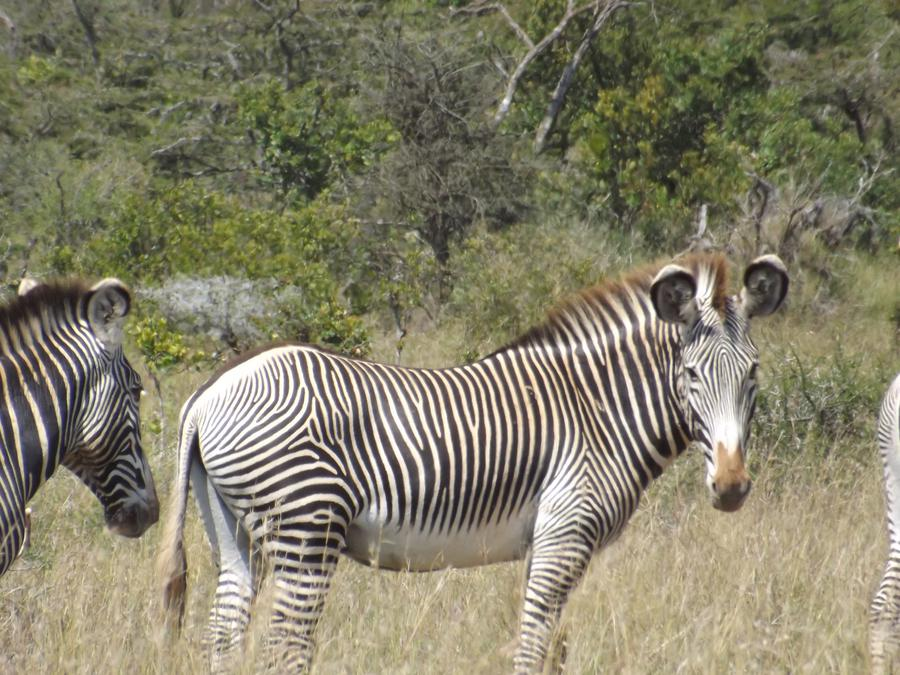zebra_grevys: (180, 325, 606, 557)
